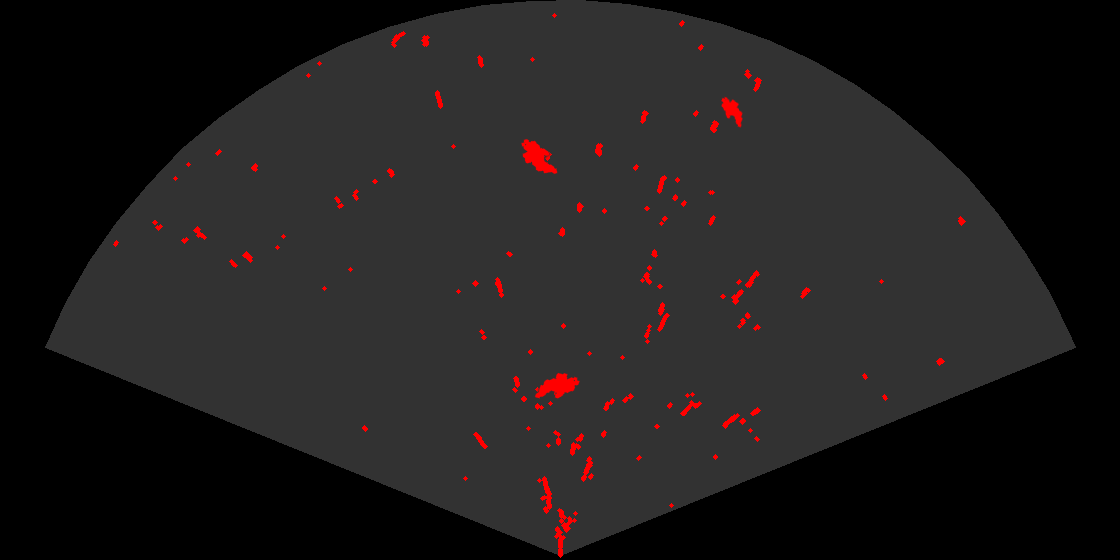AUV: (520, 137, 559, 176), (533, 371, 581, 400), (720, 95, 744, 129)
